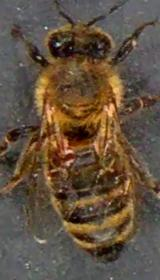varroa_mite: (46, 132, 82, 174)
